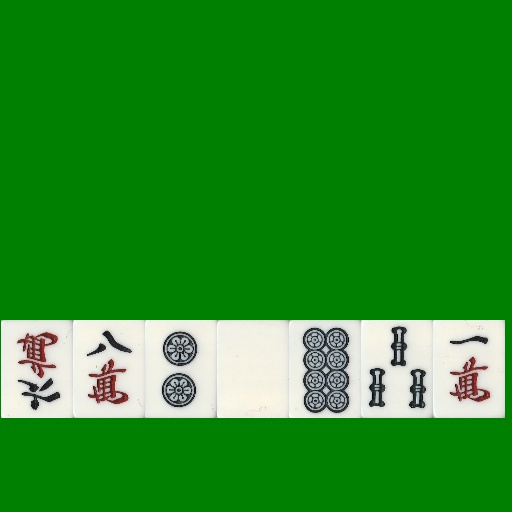1m: (433, 320, 505, 418)
2p: (145, 320, 217, 418)
3s: (361, 320, 433, 418)
6m: (1, 320, 73, 418)
8m: (73, 320, 145, 418)
8p: (289, 320, 361, 418)
white: (217, 320, 289, 418)
